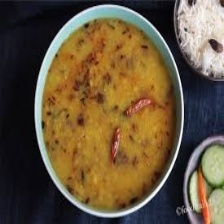dal: (39, 16, 180, 215)
